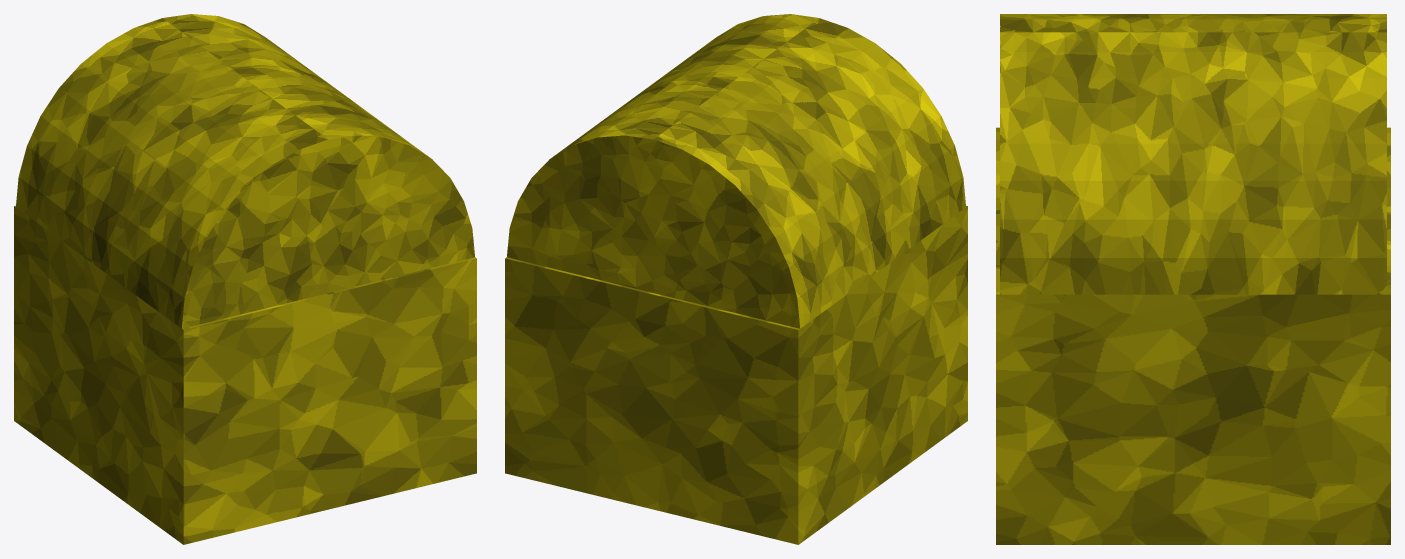
The model's file is chest.glb.
3 renders of one model, left to right at view 1: azimuth 30°, elevation 25°; view 2: azimuth 150°, elevation 25°; view 3: azimuth 270°, elevation 25°, orthographic. The views are drawn at different scales.
Visible parts, largest first — view 1: Cylinder; view 2: Cylinder; view 3: Cylinder.
Part boxes in pixels (x1=…): Cylinder: x1=14, y1=14, x2=476, y2=544; Cylinder: x1=505, y1=14, x2=967, y2=544; Cylinder: x1=996, y1=14, x2=1390, y2=544.
Size of the model in its own units: 2 by 2.4 by 2.
1 material, 1 textured.
